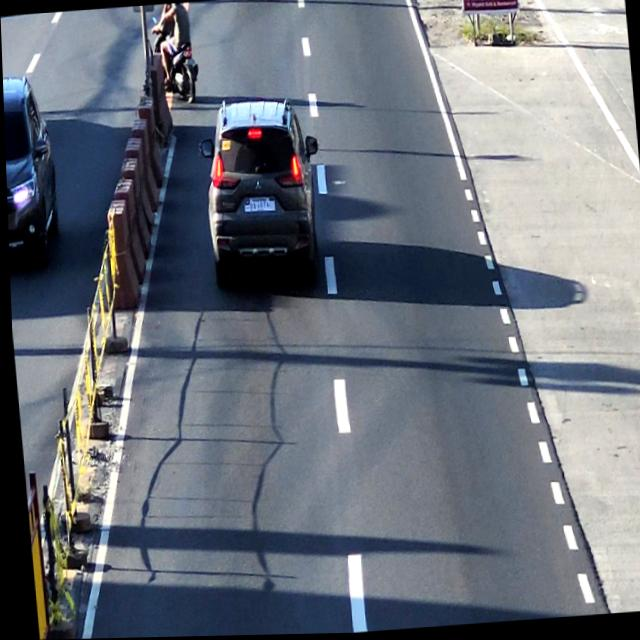Car: (201, 95, 321, 281)
License-Plate: (240, 195, 275, 218)
Motorcycle: (142, 3, 198, 106)
